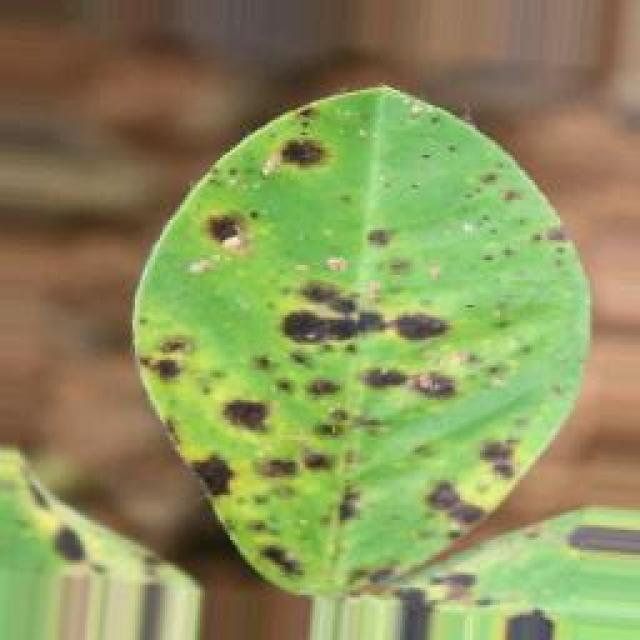Yellowish: (106, 69, 607, 625)
